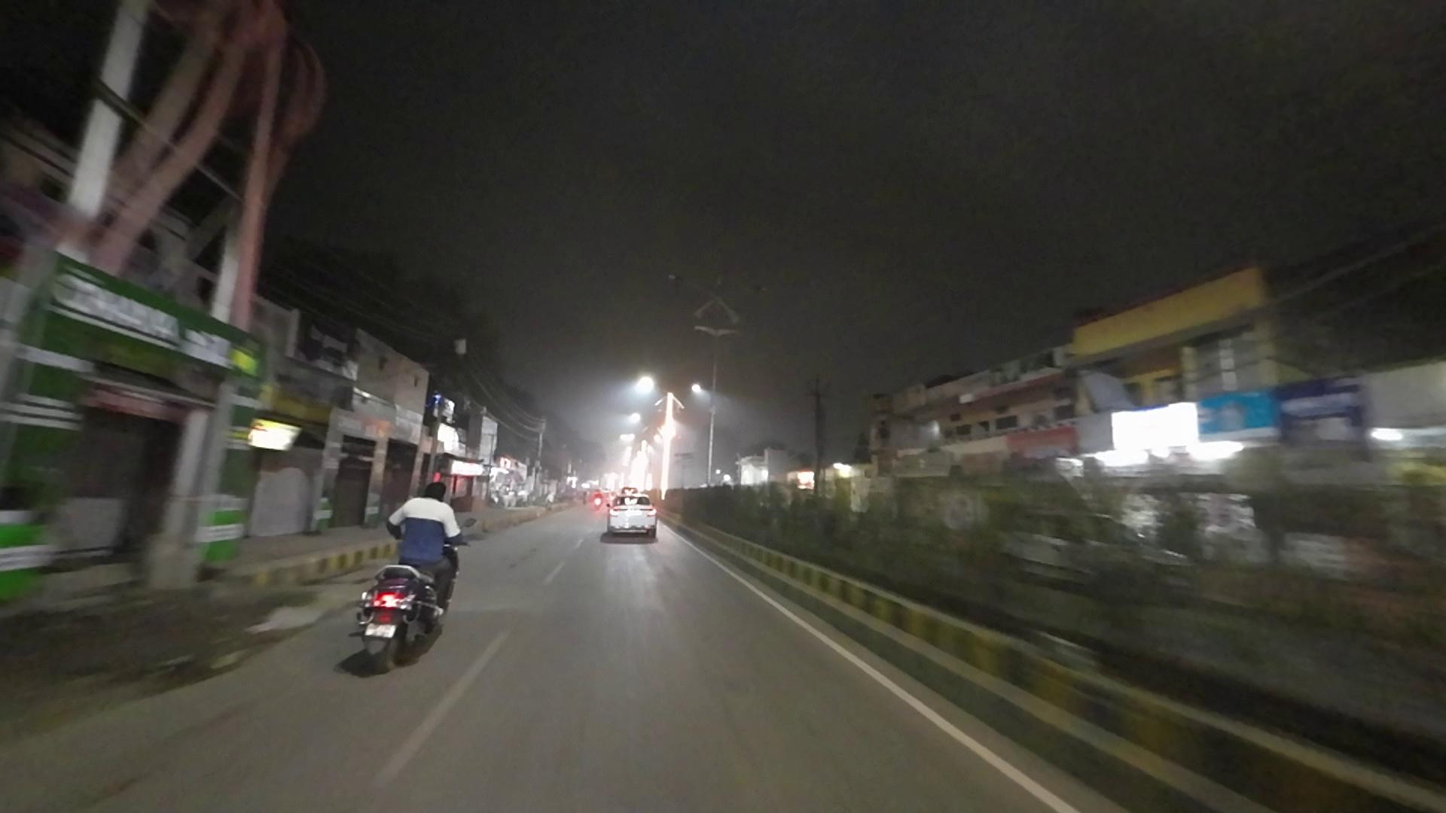streetlight: (667, 271, 713, 301), (723, 283, 768, 300)
